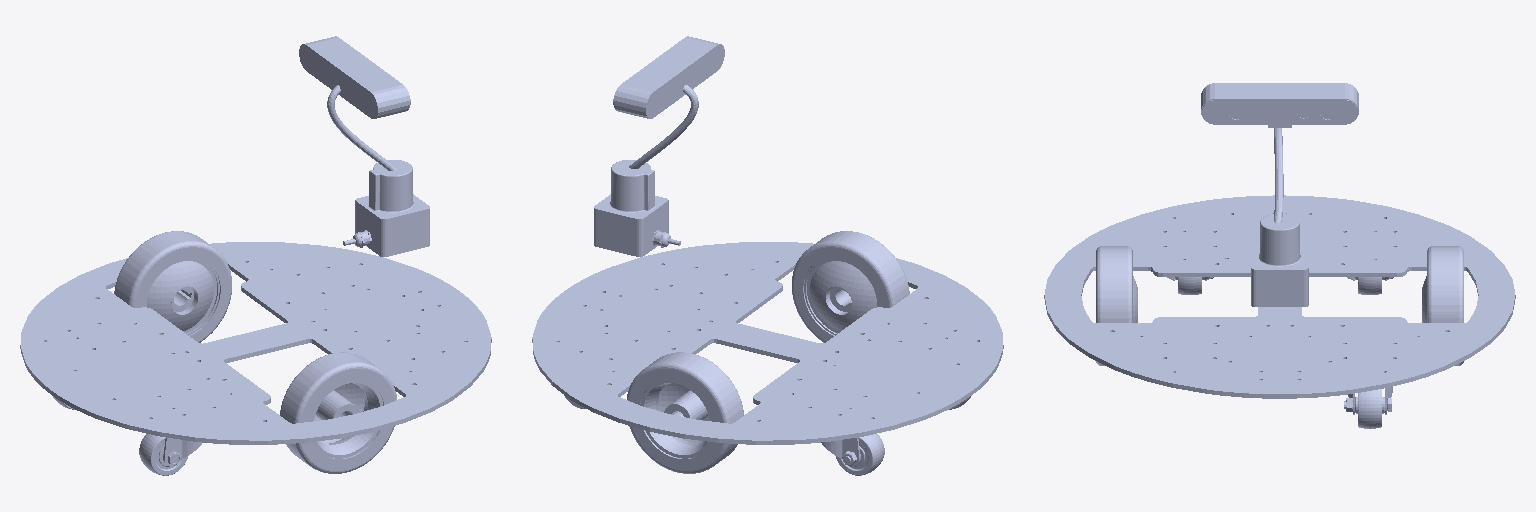
robot.urdf — tjark_agv:
<?xml version="1.0" encoding="utf-8"?>
<robot name="tjark_agv">
  <link name="base_link">
    <visual>
      <origin xyz="0.01753 -0.496305 0" rpy="0 0 3.14159265" />
      <geometry>
        <mesh filename="package://tjark_agv/meshes/base_link.STL" />
      </geometry>
      <material name="">
        <color rgba="0.792156862745098 0.819607843137255 0.933333333333333 1" />
      </material>
    </visual>
    <collision>
      <origin xyz="0.01753 -0.496305 0" rpy="0 0 3.14159265" />
      <geometry>
        <mesh filename="package://tjark_agv/meshes/base_link.STL" />
      </geometry>
    </collision>
  </link>

  <link name="base_body">
    <inertial>
      <origin xyz="-0.0625397761464612 -0.0617890042368707 -0.0890930358739272" rpy="0 0 0" />
      <mass value="5.86157279552131" />
      <inertia ixx="0.0135388124689225" ixy="1.4051306818933E-05" ixz="-1.66037891384612E-05" iyy="0.0229000846382633" iyz="0.000162706625260158" izz="0.0174489188147559" />
    </inertial>
    <visual>
      <origin xyz="0 0 0" rpy="0 0 0" />
      <geometry>
        <mesh filename="package://tjark_agv/meshes/base_body.STL" />
      </geometry>
      <material name="">
        <color rgba="0.792156862745098 0.819607843137255 0.933333333333333 1" />
      </material>
    </visual>
    <collision>
      <origin xyz="0 0 0" rpy="0 0 0" />
      <geometry>
        <mesh filename="package://tjark_agv/meshes/base_body.STL" />
      </geometry>
    </collision>
  </link>

  <joint name="body_to_base" type="fixed">
    <origin xyz="-0.073500 -0.057038 0.052880" rpy="1.570796 0 4.712389" />
    <parent link="base_link" />
    <child link="base_body" />
    <axis xyz="0 0 0" />
  </joint>

  <link name="laser">
    <inertial>
      <origin xyz="-0.00174086748706212 -3.12623898990338E-09 -0.0101893314213834" rpy="0 0 0" />
      <mass value="0.219154500646501" />
      <inertia ixx="0.000164971113270255" ixy="2.80630614931539E-11" ixz="-7.11310388791941E-07" iyy="0.000170626960543283" iyz="3.42457934856856E-11" izz="0.000110987626865618" />
    </inertial>
    <visual>
      <origin xyz="0 0 0" rpy="0 0 3.1416" />
      <geometry>
        <mesh filename="package://tjark_agv/meshes/laser_link.STL" />
      </geometry>
      <material name="">
        <color rgba="0.792156862745098 0.819607843137255 0.933333333333333 1" />
      </material>
    </visual>
    <collision>
      <origin xyz="0 0 0" rpy="0 0 3.1416" />
      <geometry>
        <mesh filename="package://tjark_agv/meshes/laser_link.STL" />
      </geometry>
    </collision>
  </link>

  <joint name="laser_to_body" type="fixed">
    <origin xyz="-0.057039 -0.041697 -0.23945" rpy="1.5708 -1.5708 3.14159" />
    <parent link="base_body" />
    <child link="laser" />
    <axis xyz="0 0 0" />
  </joint>

  <link name="camera_link">
    <inertial>
      <origin xyz="-0.000109028123903232 0.000188157745037734 0.00329381778037804" rpy="0 0 0" />
      <mass value="0.198968145464809" />
      <inertia ixx="0.000101594028649237" ixy="3.64921563400389E-07" ixz="1.28233782193605E-06" iyy="0.000467759482609897" iyz="-1.228246356247E-05" izz="0.000431155075123243" />
    </inertial>
    <visual>
      <origin xyz="0 0 0" rpy="0 0 0" />
      <geometry>
        <mesh filename="package://tjark_agv/meshes/camera_link.STL" />
      </geometry>
      <material name="">
        <color rgba="0.792156862745098 0.819607843137255 0.933333333333333 1" />
      </material>
    </visual>
    <collision>
      <origin xyz="0 0 0" rpy="0 0 0" />
      <geometry>
        <mesh filename="package://tjark_agv/meshes/camera_link.STL" />
      </geometry>
    </collision>
  </link>

  <joint name="camera_to_body" type="fixed">
    <origin xyz="-0.0570392490056422 0.113953403537498 -0.192999999999999" rpy="-1.5707963267949 0 3.14159265358979" />
    <parent link="base_body" />
    <child link="camera_link" />
    <axis xyz="0 0 0" />
  </joint>

  <link name="left_wheel">
    <inertial>
      <origin xyz="3.32003410137387E-05 1.47427065758099E-06 0.0206360203406354" rpy="0 0 0" />
      <mass value="0.223430950895449" />
      <inertia ixx="0.000335456894762655" ixy="3.8449253597207E-09" ixz="-2.4684661348122E-09" iyy="0.00033531738326045" iyz="-1.1905121645767E-10" izz="0.000619591424139698" />
    </inertial>
    <visual>
      <origin xyz="0 0 -0.04" rpy="0 0 0" />
      <geometry>
        <mesh filename="package://tjark_agv/meshes/left_wheel.STL" />
      </geometry>
      <material name="">
        <color rgba="0.792156862745098 0.819607843137255 0.933333333333333 1" />
      </material>
    </visual>
    <collision>
      <origin xyz="0 0 -0.04" rpy="0 0 0" />
      <geometry>
        <mesh filename="package://tjark_agv/meshes/left_wheel.STL" />
      </geometry>
    </collision>
  </link>

  <joint name="left_to_base" type="continuous">
    <origin xyz="0 0.192205 -0.12182" rpy="1.5708 0 3.14159265" />
    <parent link="base_link" />
    <child link="left_wheel" />
    <axis xyz="0 0 1" />
  </joint>

  <link name="right_wheel">
    <inertial>
      <origin xyz="-3.31951458207025E-05 1.58725489640688E-06 -0.0206360203414102" rpy="0 0 0" />
      <mass value="0.223430950718916" />
      <inertia ixx="0.000335456866973021" ixy="-4.31963414625839E-09" ixz="-2.46806031119726E-09" iyy="0.000335317411029562" iyz="1.27480077913439E-10" izz="0.0006195914241366" />
    </inertial>
    <visual>
      <origin xyz="0 0 0.04" rpy="0 0 0" />
      <geometry>
        <mesh filename="package://tjark_agv/meshes/right_wheel.STL" />
      </geometry>
      <material name="">
        <color rgba="0.792156862745098 0.819607843137255 0.933333333333333 1" />
      </material>
    </visual>
    <collision>
      <origin xyz="0 0 0.04" rpy="0 0 0" />
      <geometry>
        <mesh filename="package://tjark_agv/meshes/right_wheel.STL" />
      </geometry>
    </collision>
  </link>

  <joint name="right_to_base" type="continuous">
    <origin xyz="0 -0.192205 -0.12182" rpy="1.5708 0 3.14159265" />
    <parent link="base_link" />
    <child link="right_wheel" />
    <axis xyz="0 0 1" />
  </joint>

  <link name="RF_link">
    <inertial>
      <origin xyz="-0.000128033411647507 0.0184859887776221 0.0304465357447478" rpy="0 0 0" />
      <mass value="0.0760737664029981" />
      <inertia ixx="5.5057609994028E-05" ixy="8.34335786410532E-08" ixz="1.1743452062678E-07" iyy="4.00423340871853E-05" iyz="-1.5107283917568E-05" izz="3.51643333652178E-05" />
    </inertial>
    <visual>
      <origin xyz="0 0 0" rpy="0 0 0" />
      <geometry>
        <mesh filename="package://tjark_agv/meshes/RF_link.STL" />
      </geometry>
      <material name="">
        <color rgba="0.792156862745098 0.819607843137255 0.933333333333333 1" />
      </material>
    </visual>
    <collision>
      <origin xyz="0 0 0" rpy="0 0 0" />
      <geometry>
        <mesh filename="package://tjark_agv/meshes/RF_link.STL" />
      </geometry>
    </collision>
  </link>

  <joint name="RF_to_base" type="fixed">
    <origin xyz="0.138 -0.093995 -0.11632" rpy="-3.1416 0 1.57079" />
    <parent link="base_link" />
    <child link="RF_link" />
    <axis xyz="0 0 0" />
  </joint>

  <link name="RB_link">
    <inertial>
      <origin xyz="0.000128033411647521 -0.0184859887776221 0.0304465357447477" rpy="0 0 0" />
      <mass value="0.0760737664029981" />
      <inertia ixx="5.50576099940281E-05" ixy="8.34335786410261E-08" ixz="-1.17434520626753E-07" iyy="4.00423340871853E-05" iyz="1.51072839175681E-05" izz="3.51643333652178E-05" />
    </inertial>
    <visual>
      <origin xyz="0 0 0" rpy="0 0 0" />
      <geometry>
        <mesh filename="package://tjark_agv/meshes/RB_link.STL" />
      </geometry>
      <material name="">
        <color rgba="0.792156862745098 0.819607843137255 0.933333333333333 1" />
      </material>
    </visual>
    <collision>
      <origin xyz="0 0 0" rpy="0 0 0" />
      <geometry>
        <mesh filename="package://tjark_agv/meshes/RB_link.STL" />
      </geometry>
    </collision>
  </link>

  <joint name="RB_to_base" type="fixed">
    <origin xyz="-0.138 -0.093995 -0.11632" rpy="3.1416 0 1.57079" />
    <parent link="base_link" />
    <child link="RB_link" />
    <axis xyz="0 0 0" />
  </joint>

  <link name="LF_link">
    <inertial>
      <origin xyz="-0.000128033411647424 0.0184859887776221 0.0304465357447477" rpy="0 0 0" />
      <mass value="0.0760737664029972" />
      <inertia ixx="5.50576099940275E-05" ixy="8.34335786409445E-08" ixz="1.17434520626658E-07" iyy="4.00423340871849E-05" iyz="-1.51072839175678E-05" izz="3.51643333652174E-05" />
    </inertial>
    <visual>
      <origin xyz="0 0 0" rpy="0 0 0" />
      <geometry>
        <mesh filename="package://tjark_agv/meshes/LF_link.STL" />
      </geometry>
      <material name="">
        <color rgba="0.792156862745098 0.819607843137255 0.933333333333333 1" />
      </material>
    </visual>
    <collision>
      <origin xyz="0 0 0" rpy="0 0 0" />
      <geometry>
        <mesh filename="package://tjark_agv/meshes/LF_link.STL" />
      </geometry>
    </collision>
  </link>

  <joint name="LF_to_base" type="fixed">
    <origin xyz="0.138 0.094005 -0.11632" rpy="-3.1416 0 1.57079" />
    <parent link="base_link" />
    <child link="LF_link" />
    <axis xyz="0 0 0" />
  </joint>

  <link name="LB_link">
    <inertial>
      <origin xyz="-0.000128033411647521 0.0304465357447476 -0.018485988777622" rpy="0 0 0" />
      <mass value="0.0760737664029976" />
      <inertia ixx="5.50576099940275E-05" ixy="1.17434520626629E-07" ixz="-8.34335786409097E-08" iyy="3.51643333652174E-05" iyz="1.51072839175678E-05" izz="4.0042334087185E-05" />
    </inertial>
    <visual>
      <origin xyz="0 0 0" rpy="0 0 0" />
      <geometry>
        <mesh filename="package://tjark_agv/meshes/LB_link.STL" />
      </geometry>
      <material name="">
        <color rgba="0.792156862745098 0.819607843137255 0.933333333333333 1" />
      </material>
    </visual>
    <collision>
      <origin xyz="0 0 0" rpy="0 0 0" />
      <geometry>
        <mesh filename="package://tjark_agv/meshes/LB_link.STL" />
      </geometry>
    </collision>
  </link>

  <joint name="LB_to_base" type="fixed">
    <origin xyz="-0.138 0.094005 -0.11632" rpy="-1.5708 0 4.71239" />
    <parent link="base_link" />
    <child link="LB_link" />
    <axis xyz="0 0 0" />
  </joint>


</robot>

--- Render facts (derived) ---
3 views of the same robot in one strip: view 1: azimuth 30°, elevation 25°; view 2: azimuth 150°, elevation 25°; view 3: azimuth 270°, elevation 25° (orthographic).
Robot: tjark_agv — 10 links, 9 joints (2 continuous, 7 fixed); root link base_link; default pose: every joint at zero.
Links seen in each view (by area): view 1: base_link, left_wheel, right_wheel, camera_link, laser, RB_link; view 2: base_link, right_wheel, left_wheel, camera_link, laser, LB_link; view 3: base_link, camera_link, laser, left_wheel, right_wheel, LF_link.
Link boxes in pixels (x1,y1,x2,y2): base_link: (20, 242, 491, 444); left_wheel: (114, 231, 231, 342); right_wheel: (280, 352, 396, 473); camera_link: (299, 36, 410, 170); laser: (343, 160, 429, 256); RB_link: (139, 434, 201, 475); base_link: (532, 242, 1003, 444); right_wheel: (792, 231, 909, 342); left_wheel: (627, 352, 743, 473); camera_link: (613, 36, 724, 168); laser: (594, 160, 680, 256); LB_link: (821, 434, 884, 475); base_link: (1044, 195, 1515, 398); camera_link: (1201, 83, 1358, 222); laser: (1251, 212, 1308, 306); left_wheel: (1422, 246, 1463, 365); right_wheel: (1096, 246, 1137, 365); LF_link: (1344, 387, 1392, 428).
Size in the robot's own frame: 0.492 by 0.492 by 0.3662 metres.
8 mesh visuals loaded from 10 distinct referenced files (8 binary STL); not drawn: 2 (reference not matched to a file when rendering).
